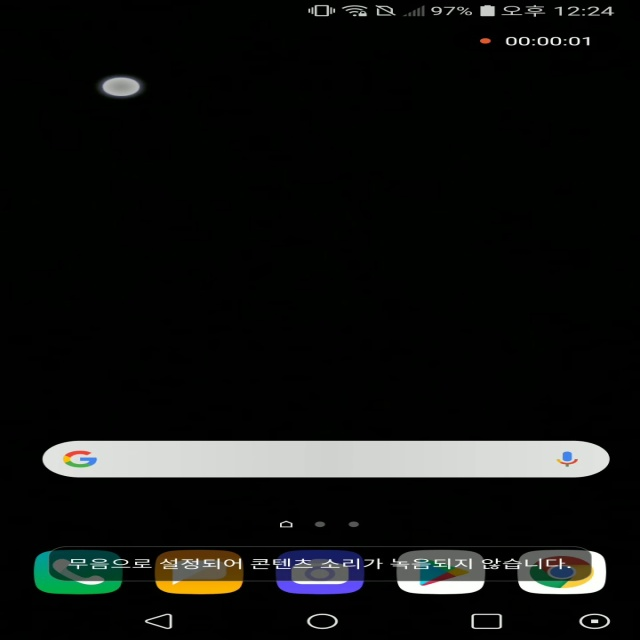Cursor: (99, 76, 144, 99)
